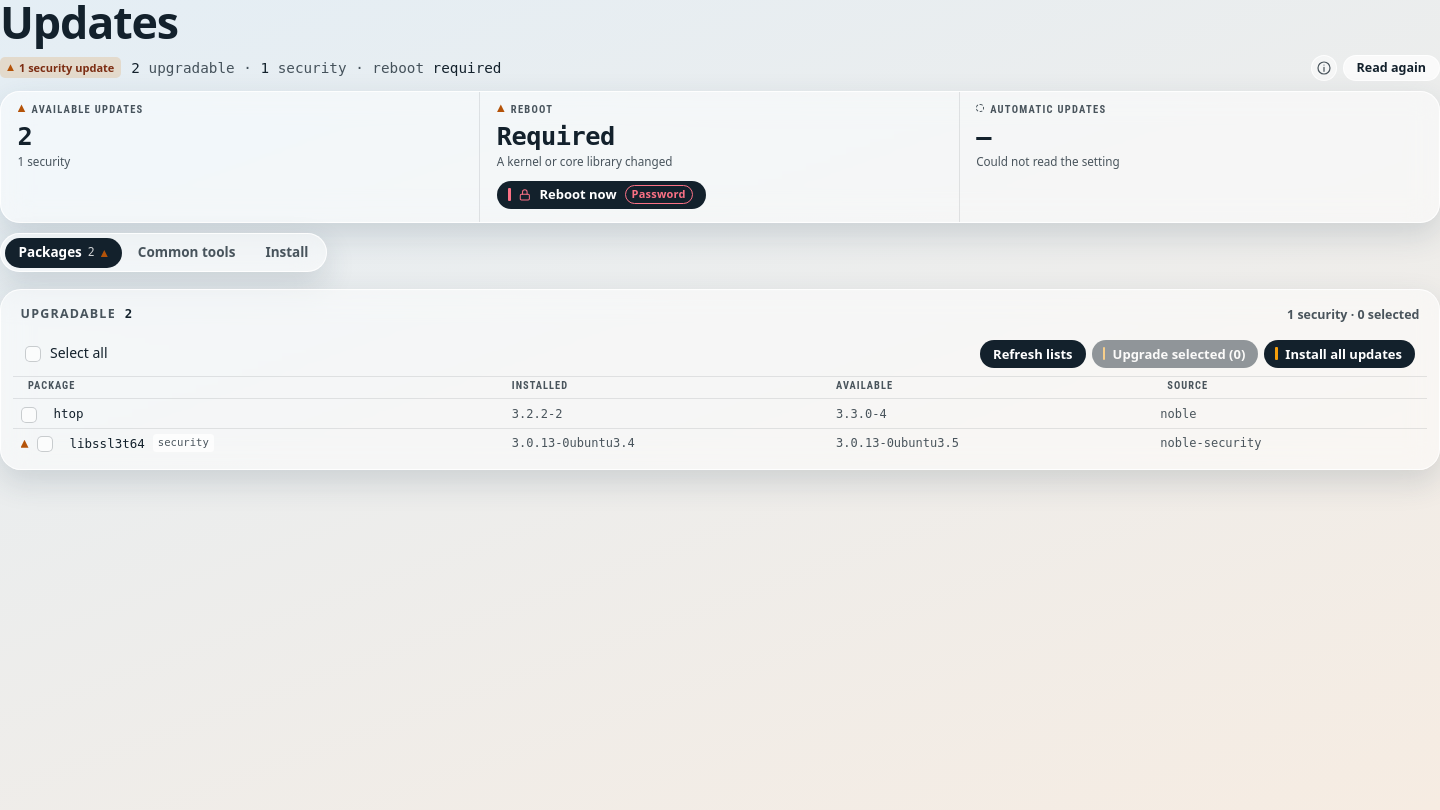
Scenario: Updates page › lists upgradable packages and upgrades selected ones through the approval dialog
The width and height of the screenshot is (1440, 810).
Check: the text "htop" is shown, box [54,406,84,421]
Check: the text "noble-security" is shown, box [1160,436,1262,450]
What coordinates should you click on to do the following:
click the checkbox named "Select all packages"
I would click on:
 (79, 354)
Its box is [50,344,108,363].
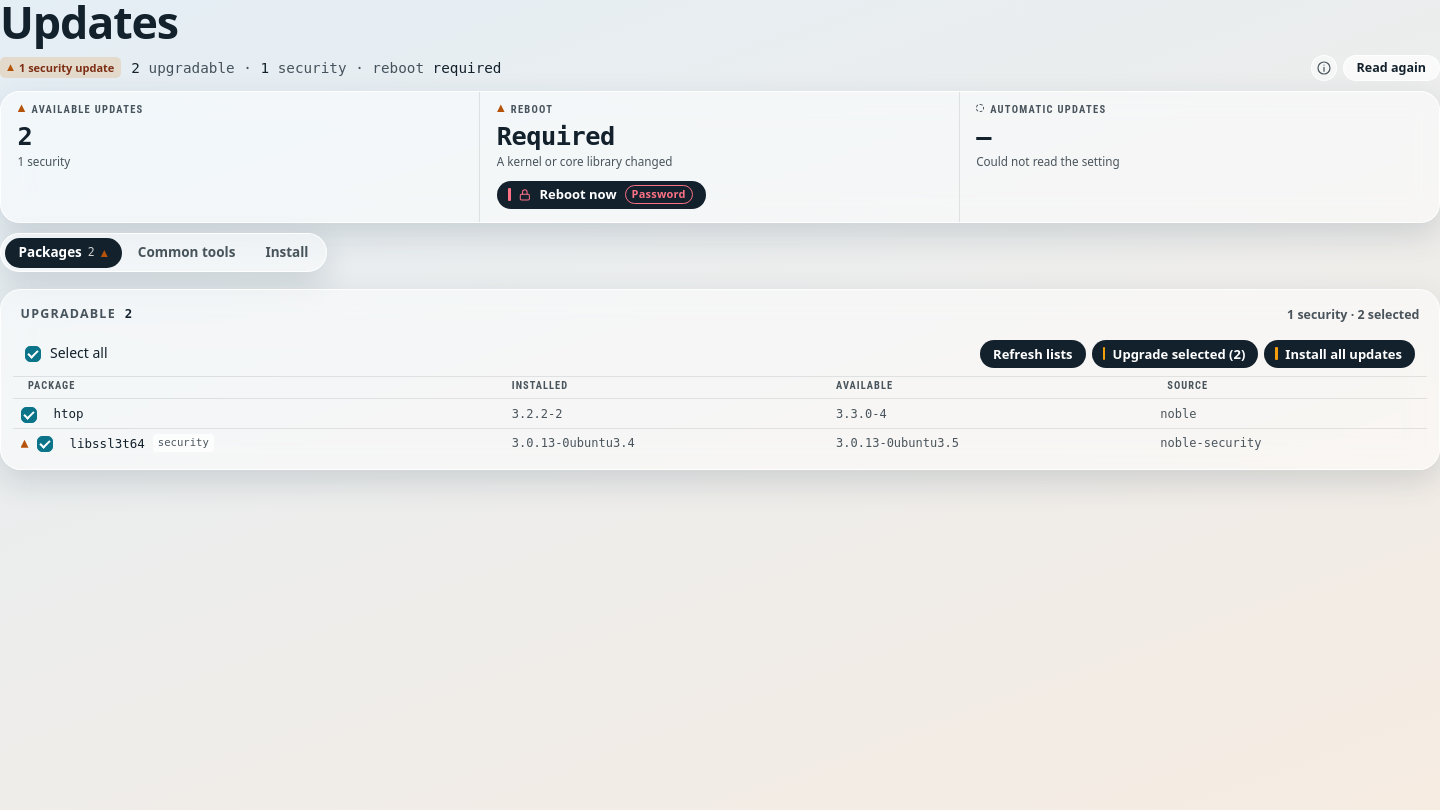
Check: the button "Upgrade selected (2)" is shown, box [1092,340,1258,368]
What coordinates should you click on to do the following:
click the checkbox named "Select all packages"
I would click on:
 (79, 354)
Its box is [50,344,108,363].
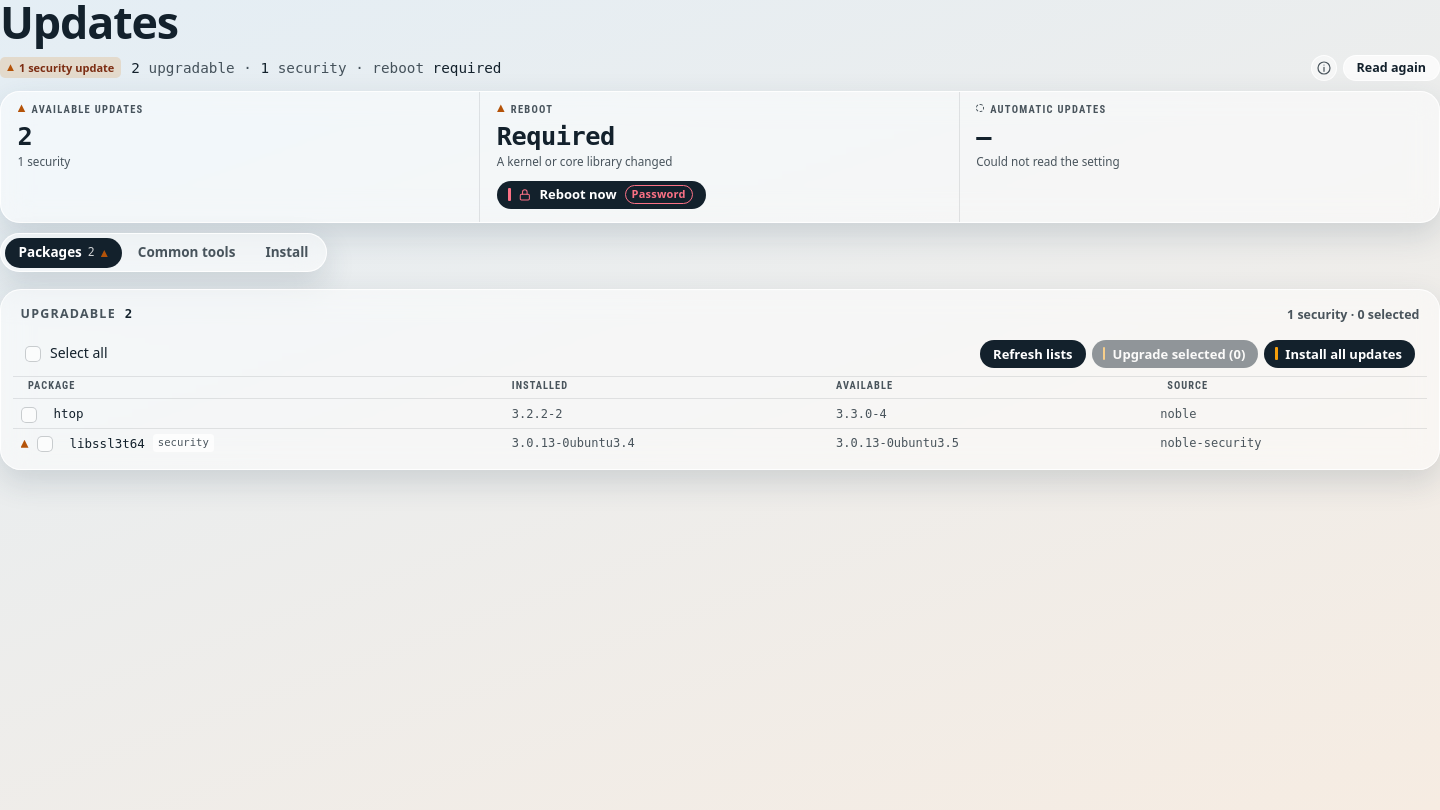
Check: the button "Upgrade selected (0)" is shown, box [1092,340,1258,368]
What coordinates should you click on to do the following:
click the checkbox named "Select htop"
I would click on:
 (28, 415)
Its box is [20,407,36,423].
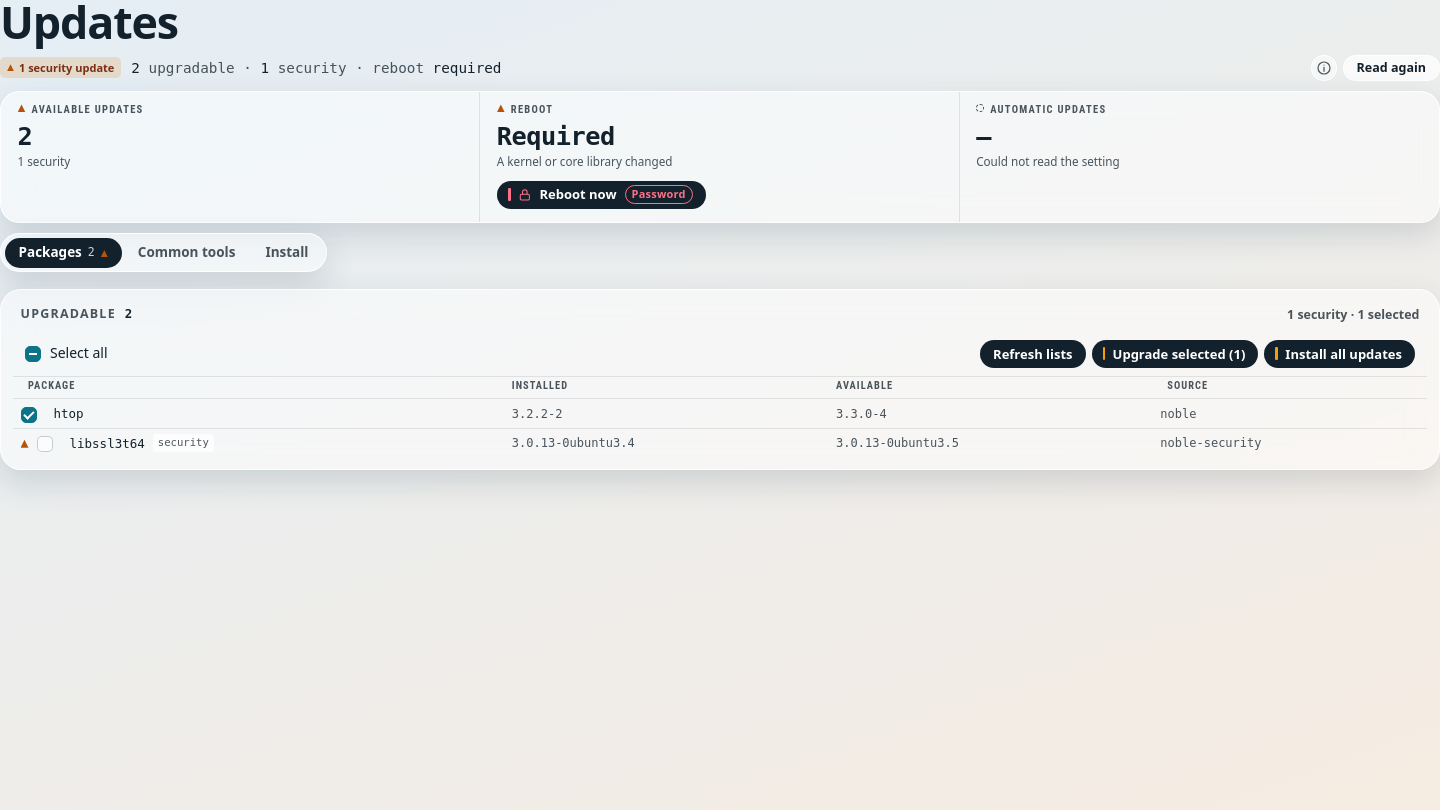
What coordinates should you click on to do the following:
click the button "Upgrade selected (1)"
I would click on:
 (1175, 354)
Its box is [1092,340,1258,368].
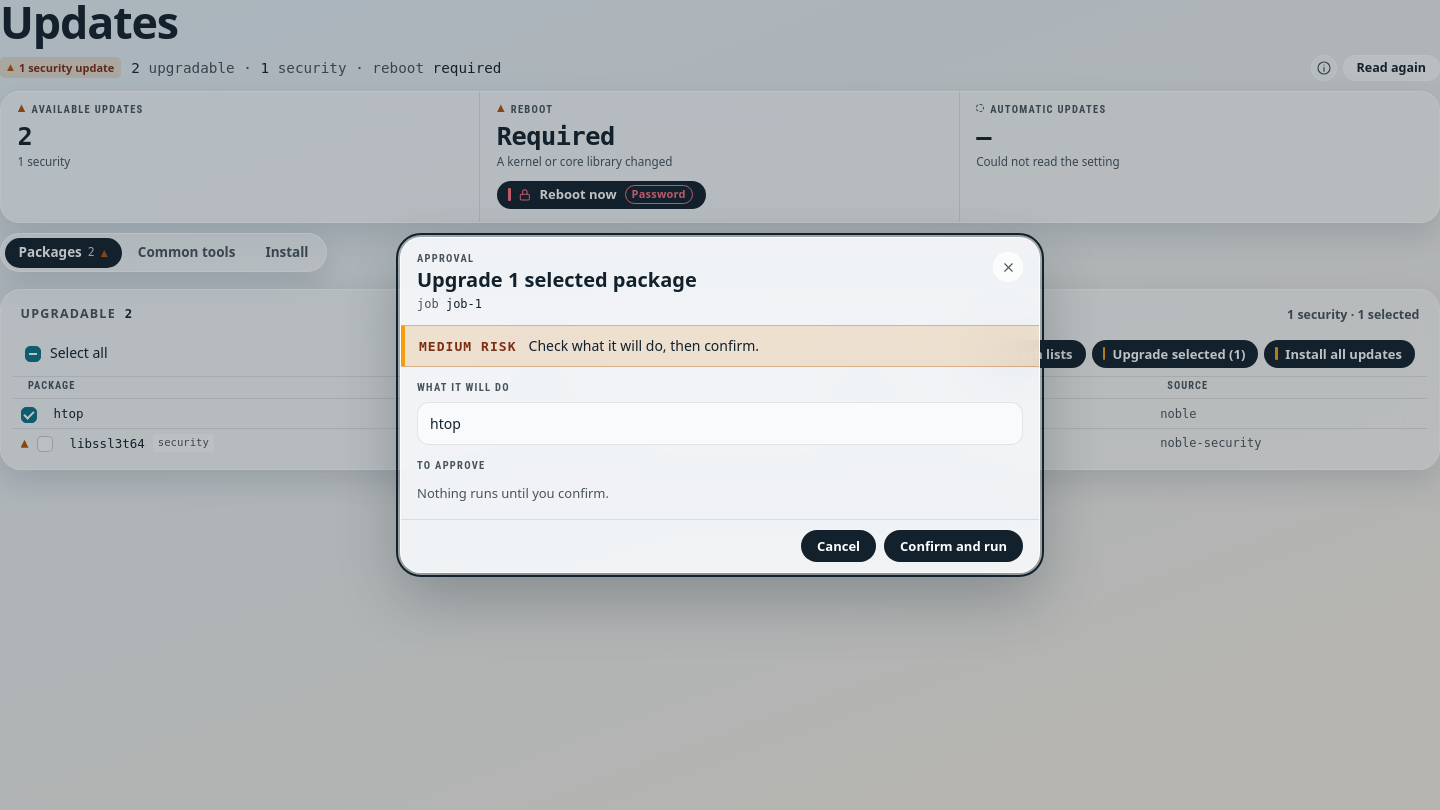
Check: the text "Medium risk" is shown, box [419,339,516,354]
What coordinates should you click on to do the following:
click the button "Confirm and run"
I would click on:
 (954, 546)
Its box is [884,530,1023,562].
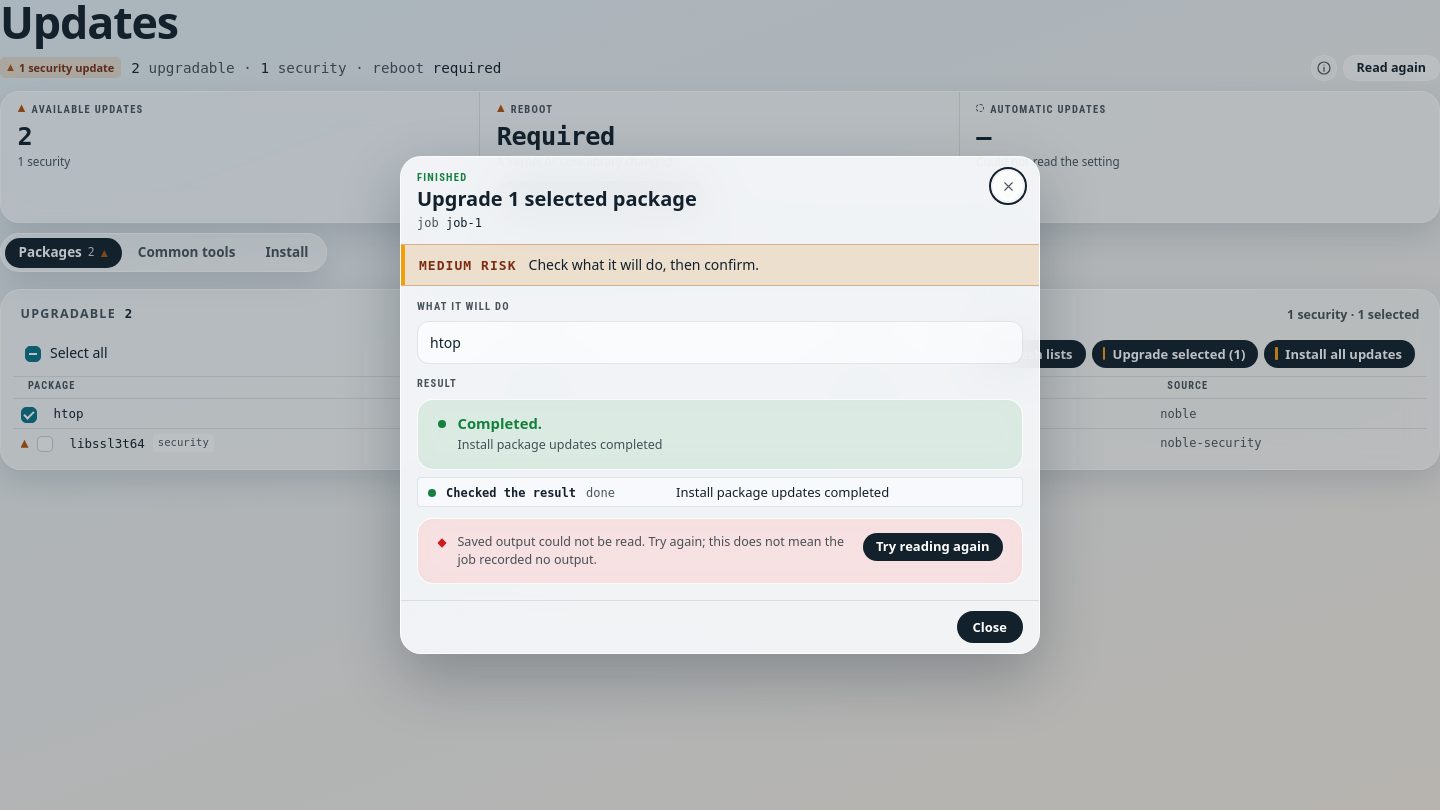
Check: the text "Completed." is shown, box [458,413,542,433]
